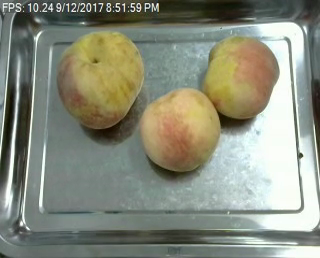Peach: (57, 29, 144, 130), (139, 87, 221, 172), (202, 35, 279, 119)
